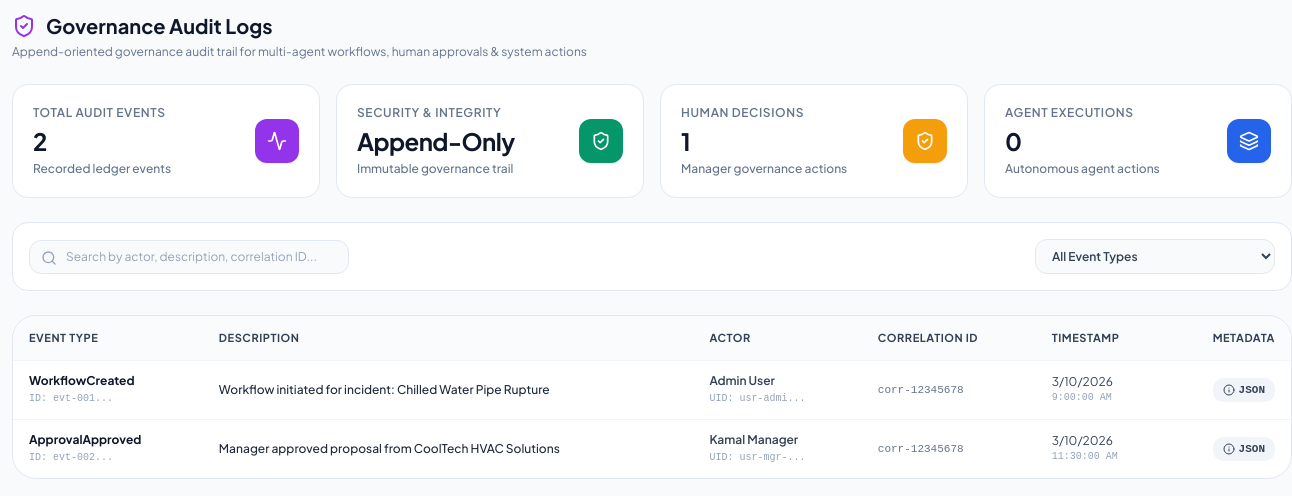
Test case: AuditLogsPage › filters audit trail by search input
Expected: the heading "Governance Audit Logs" is shown, [12,13,272,38]
Type "CoolTech" into the field with placeholder "Search by actor, description, correlation ID..." at (189, 256), box [29,240,349,274]
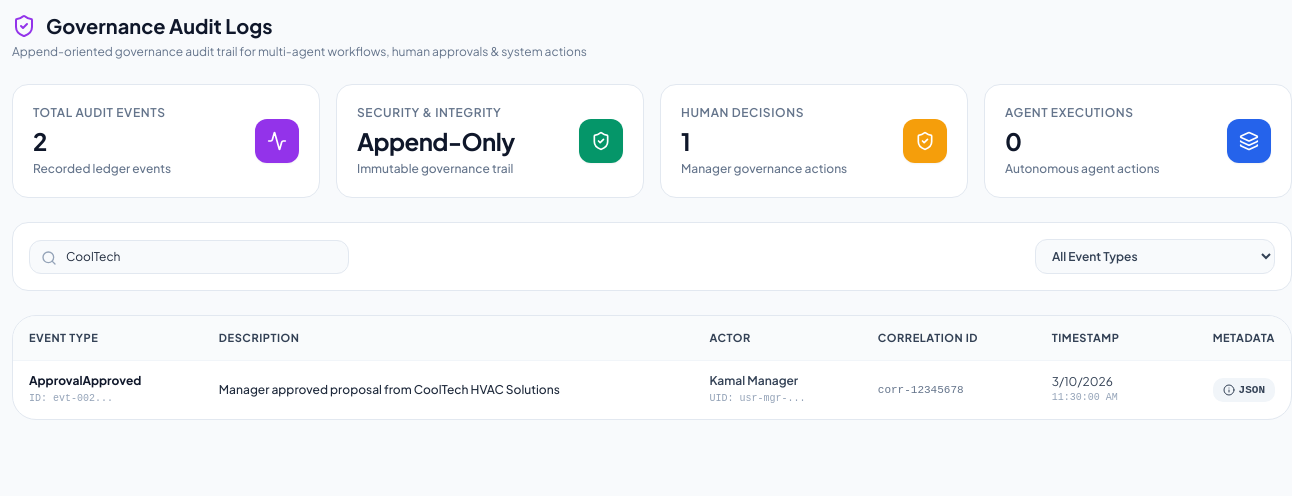
Expected: the text "Manager approved proposal from CoolTech HVAC Solutions" is shown, [203,360,693,419]
Expected: the text "Workflow initiated for incident" is gone
